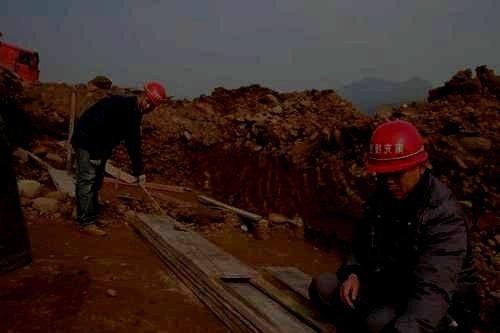helmet: (366, 120, 430, 200), (138, 82, 167, 113)
